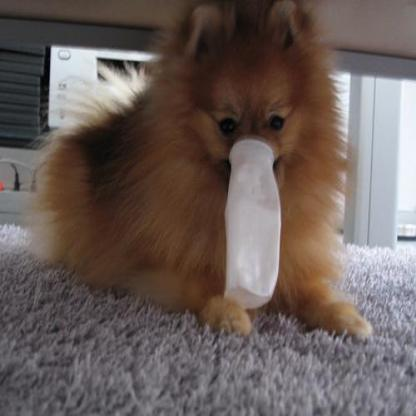Pomeranian: (29, 0, 372, 339)
